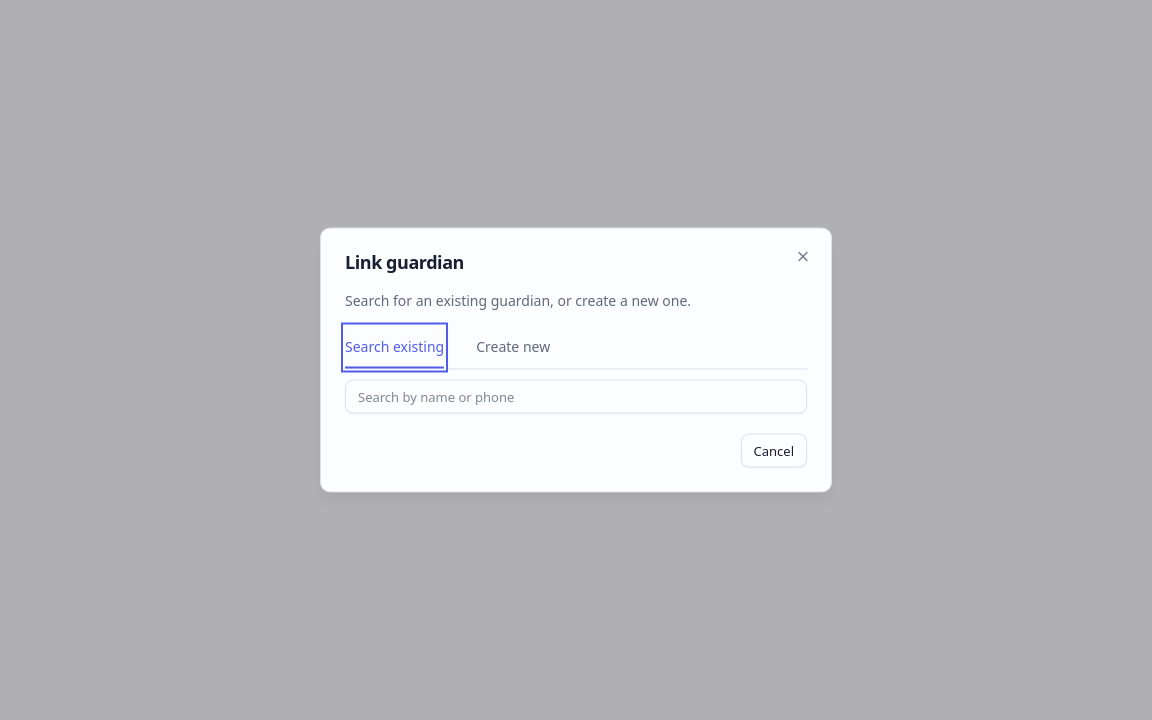
it: GuardianPickerDialog › surfaces the server's real 409 when linking an already-linked guardian
Type "Ayesha" into the field labelled "Search by name or phone" at (576, 396), box [345,380,807,414]
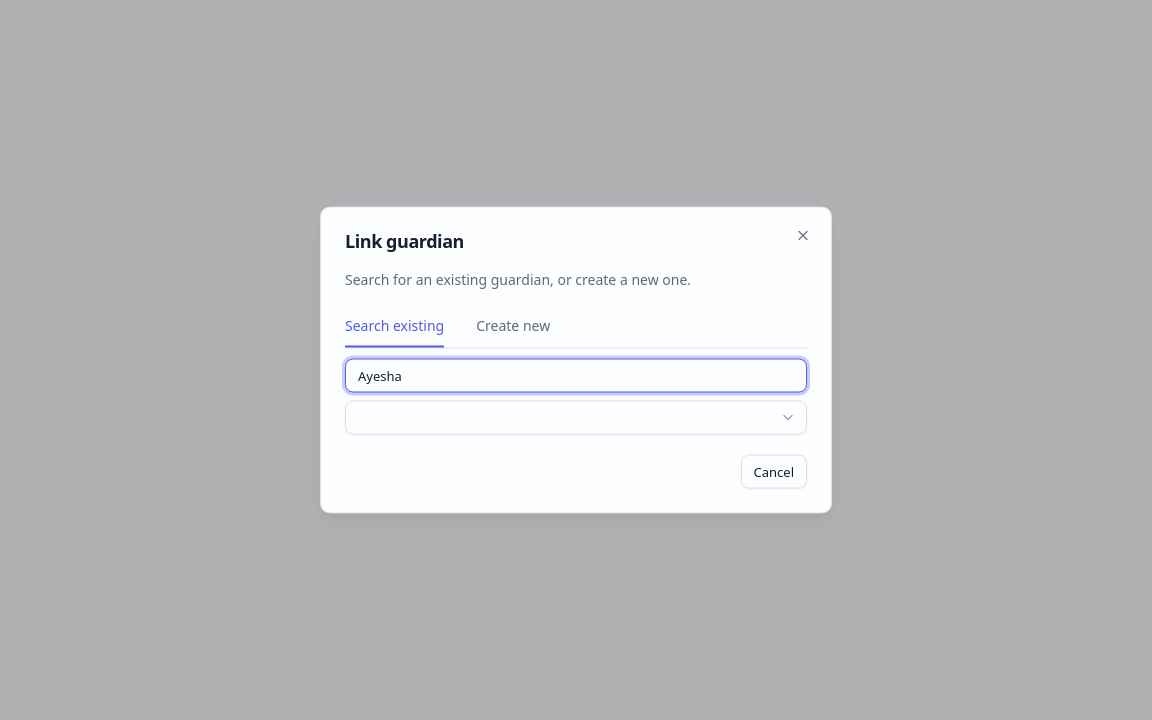
Click the dropdown named "search existing" at (788, 418), box [345,400,807,434]
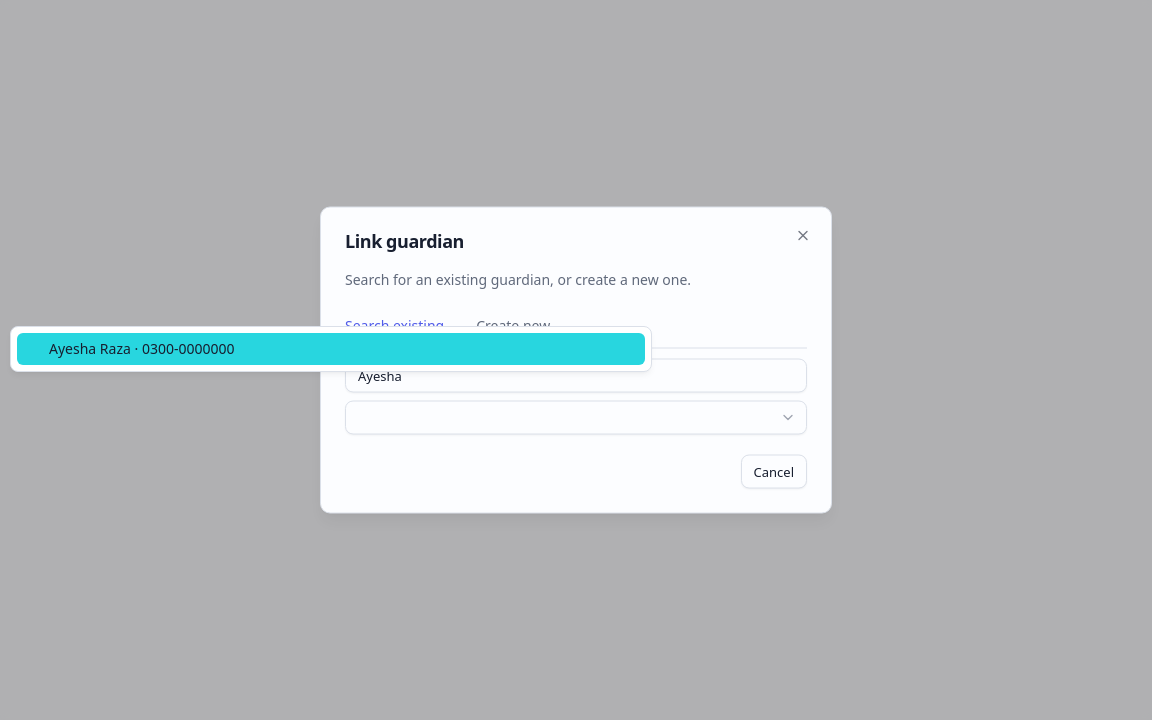
Click the option "Ayesha Raza · 0300-0000000" at (73, 348), box [17,333,645,365]
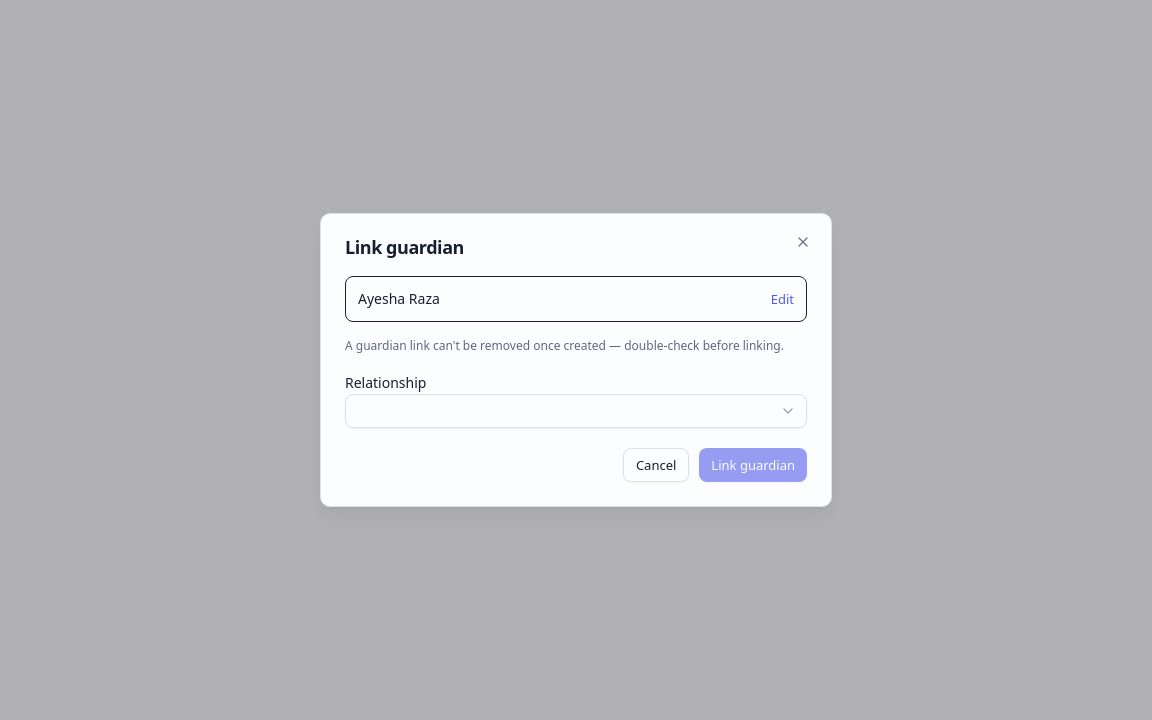
Click the dropdown named "relationship" at (788, 411), box [345,394,807,428]
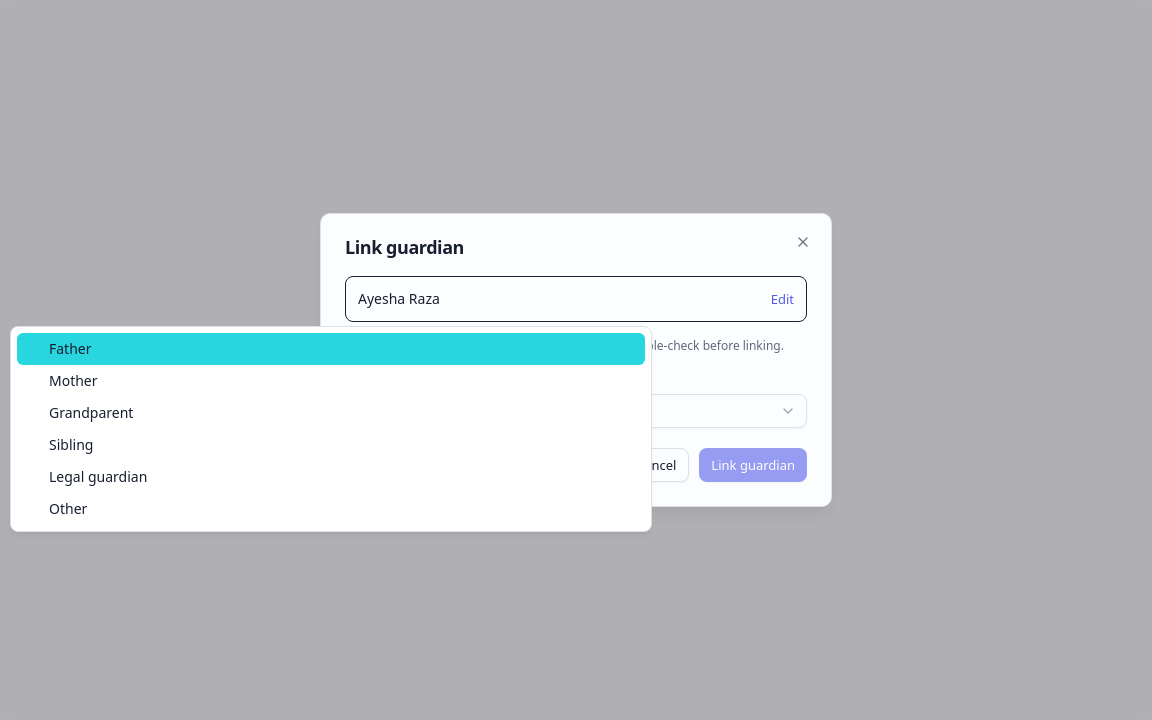
Click the option "Mother" at (73, 380), box [49,371,98,390]
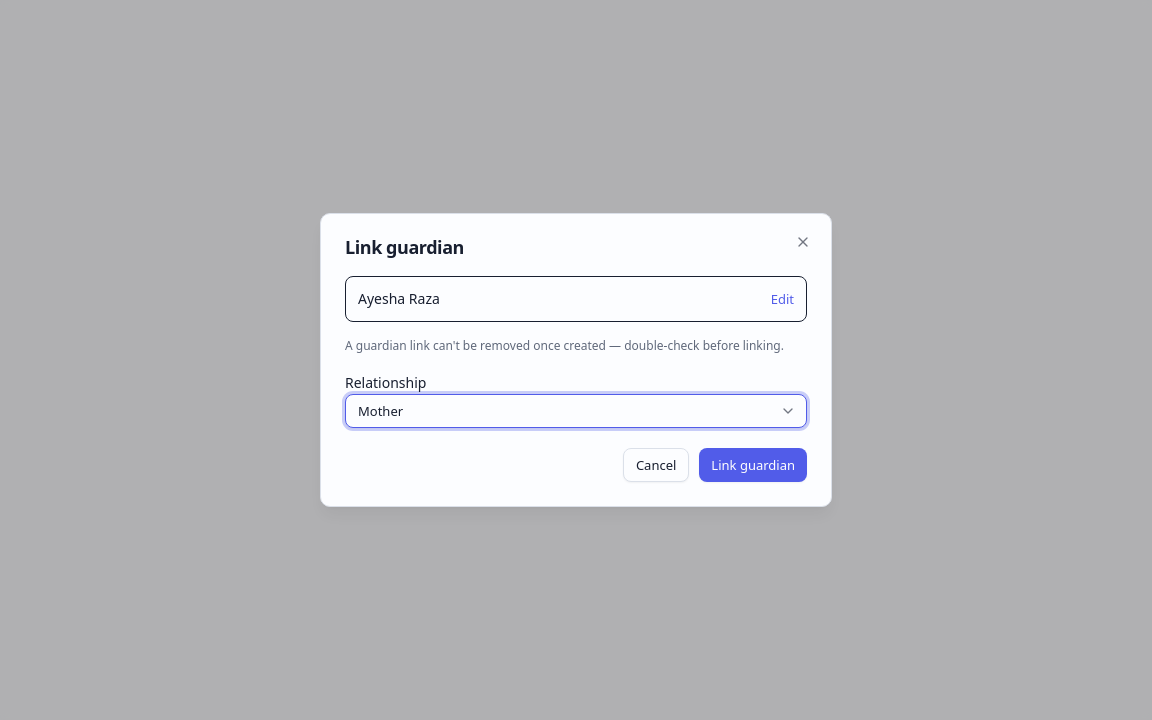
Click the button "Link guardian" at (753, 465), box [699,448,807,482]
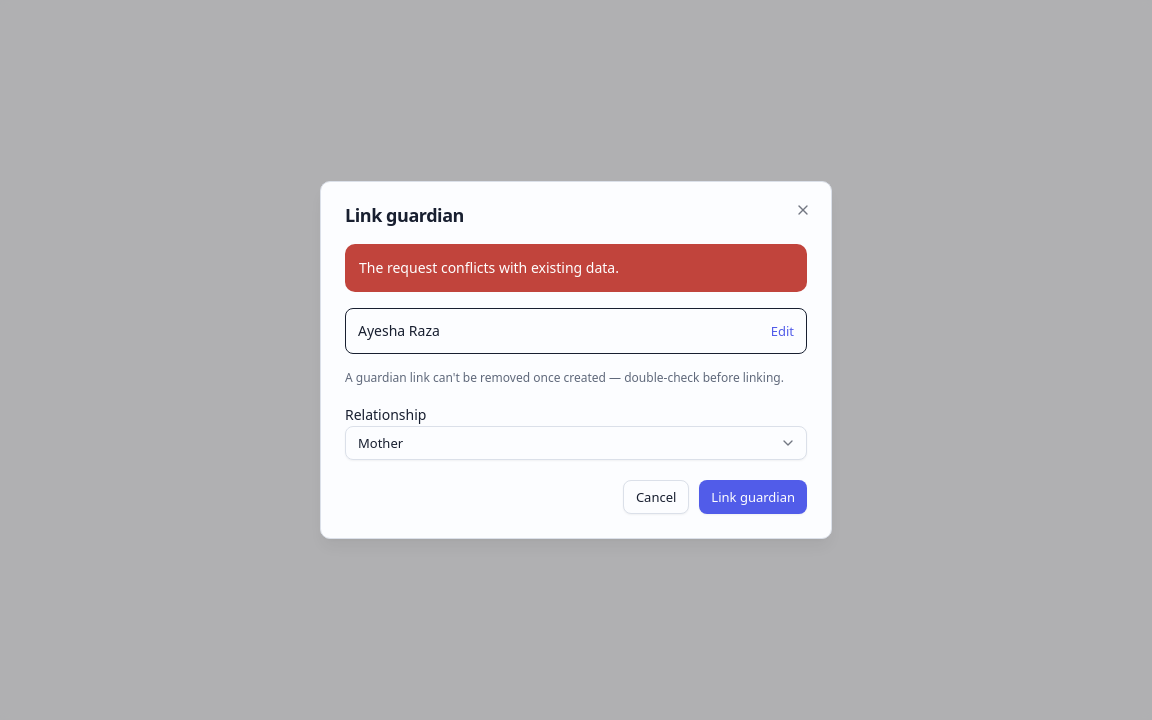
Now the text "The request conflicts with existing data." is shown, box [345,244,807,292]
